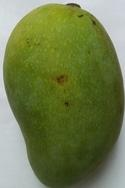Unripe: (1, 1, 125, 188)
